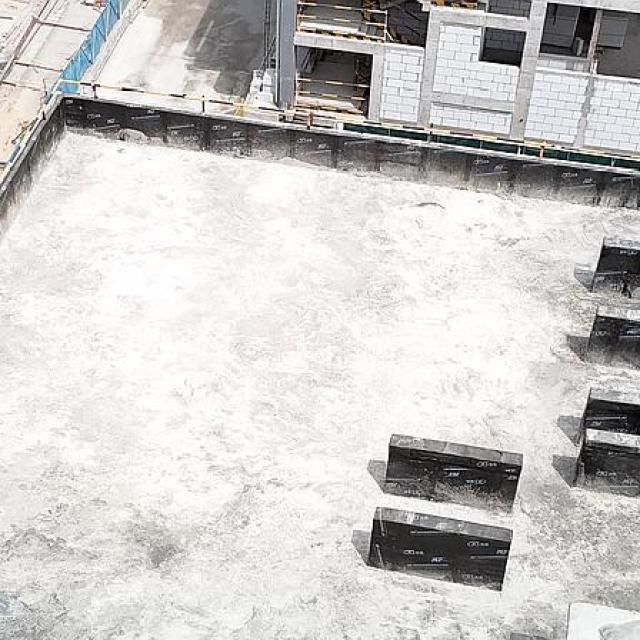edge_guardrail: (0, 76, 640, 190), (295, 2, 388, 44), (294, 76, 370, 115), (299, 48, 311, 73)
